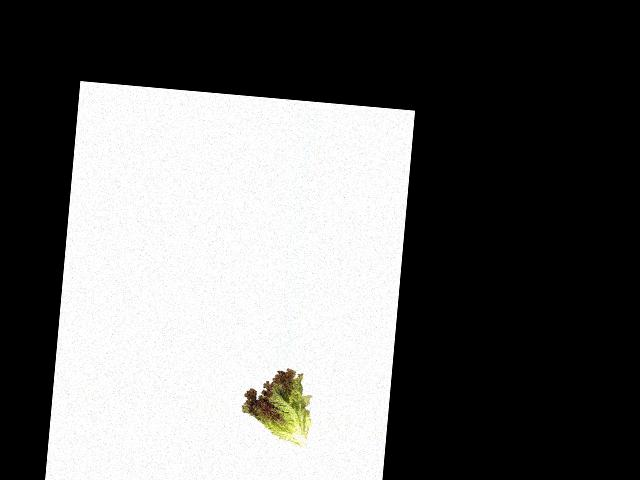lettuce: (240, 364, 314, 446)
